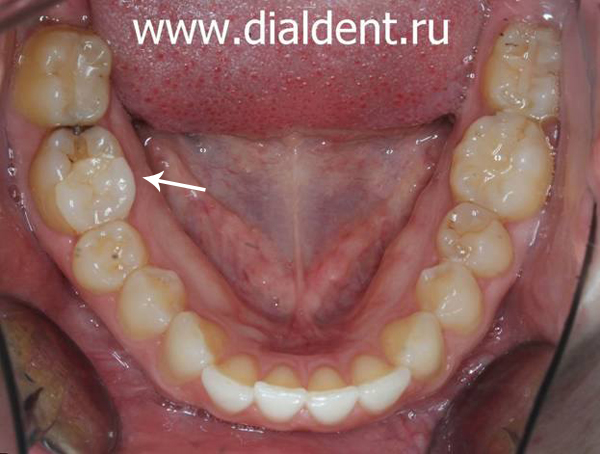LL1BC_healthy: (421, 265, 484, 333)
LL1M_healthy: (455, 116, 553, 216)
LL2BC_healthy: (436, 203, 515, 277)
LL2M_healthy: (483, 31, 563, 122)
LLCI_healthy: (307, 369, 355, 420)
LLC_healthy: (386, 312, 446, 374)
LLLI_healthy: (355, 350, 408, 415)
LR1BC_healthy: (123, 267, 184, 336)
LR1M_decay: (43, 130, 137, 229)
LR2BC_healthy: (81, 226, 146, 285)
LR2M_healthy: (17, 26, 112, 127)
LRCI_healthy: (255, 361, 307, 421)
LRC_healthy: (166, 313, 224, 374)
LRLI_healthy: (204, 354, 257, 414)
